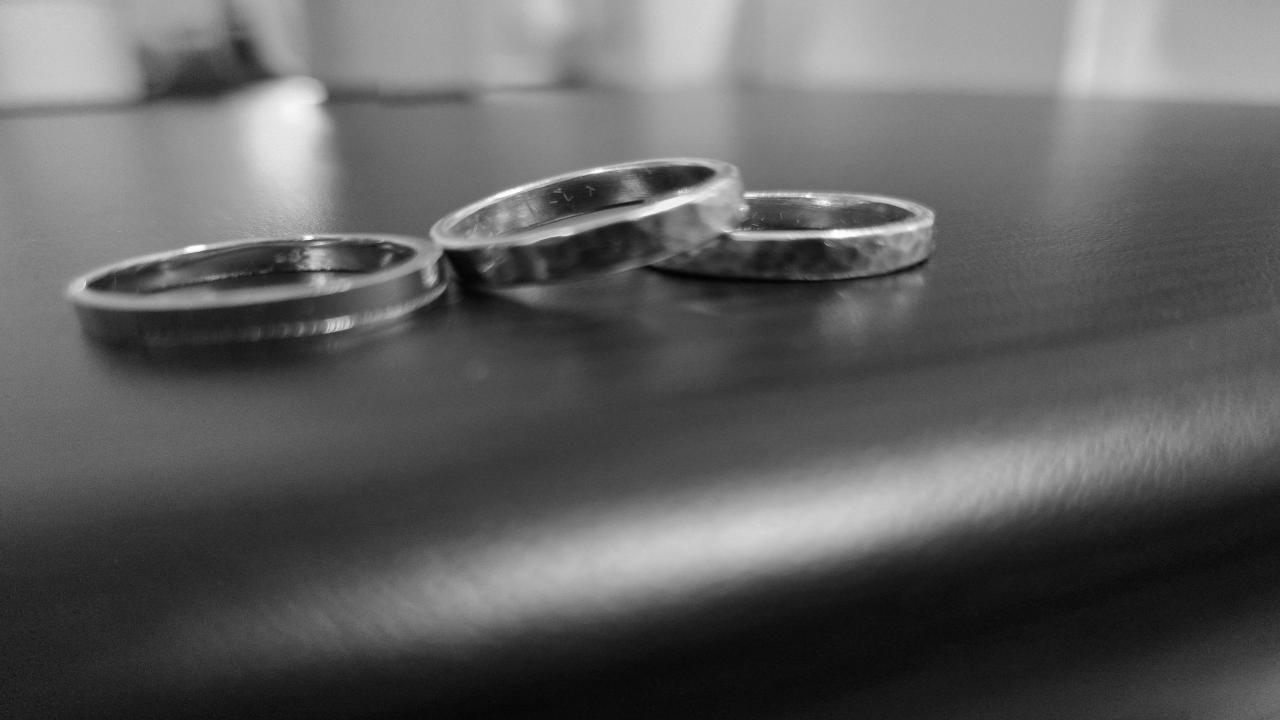ring: (64, 231, 452, 349), (429, 155, 737, 288), (642, 190, 941, 282)
